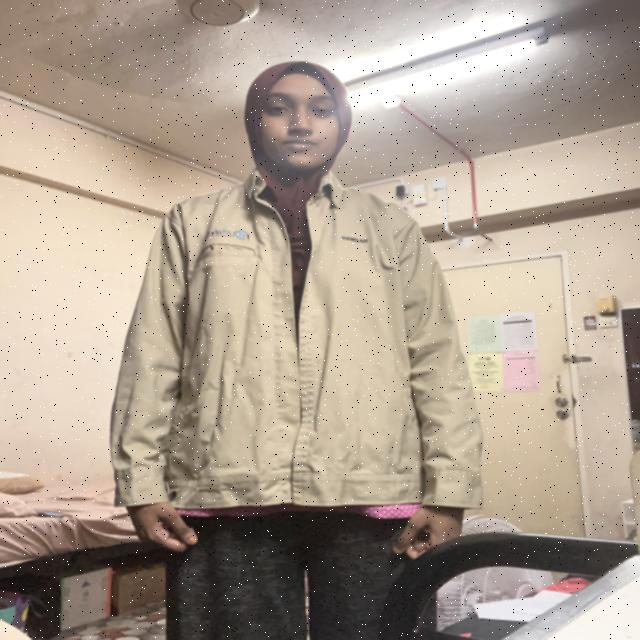person_with_labcoat: (110, 62, 483, 640)
